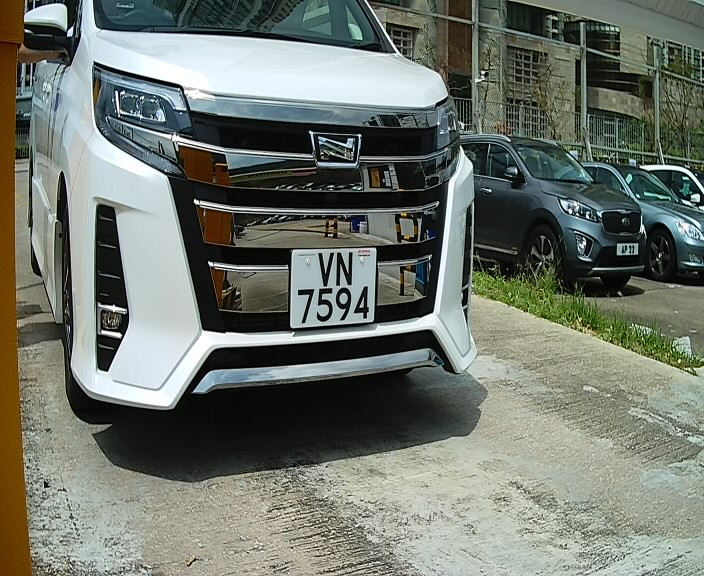Car: (21, 2, 513, 440)
License Plate: (286, 238, 383, 341)
